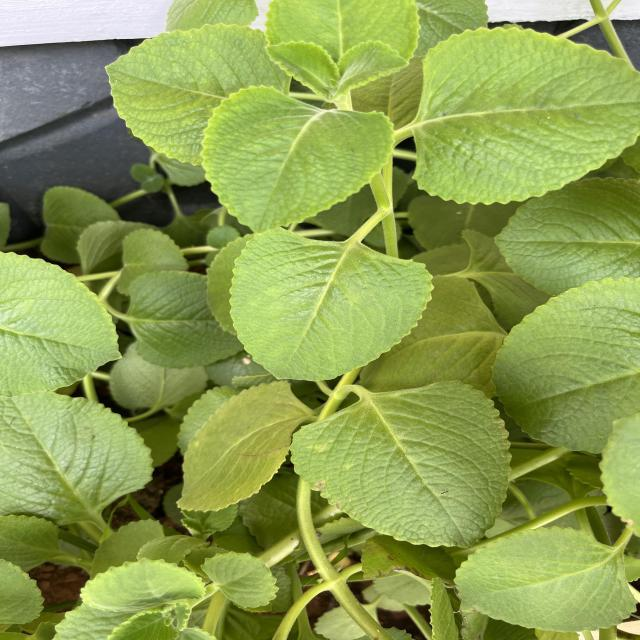Plectranthus barbatus: (410, 25, 640, 205), (288, 378, 521, 550), (227, 228, 435, 384), (198, 82, 397, 234), (488, 275, 640, 452), (102, 22, 284, 166), (452, 523, 640, 634), (3, 390, 157, 518), (174, 380, 298, 516)
